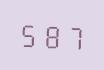eight: (41, 19, 62, 50)
five: (18, 18, 39, 49)
seven: (63, 20, 84, 51)
